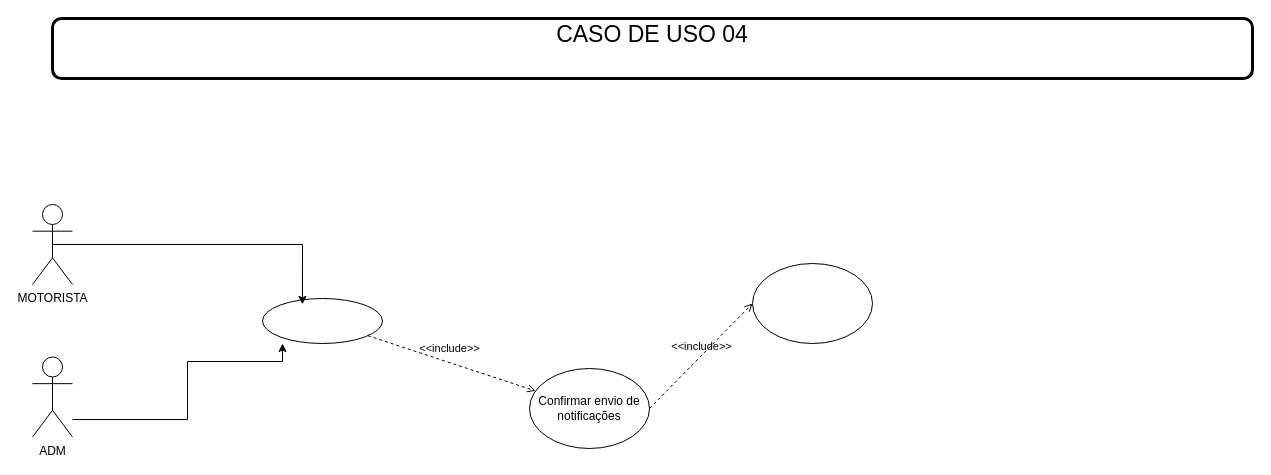
The diagram is 1271 pixels wide and 475 high, and some of its shapes have lost their labels. Each missing label, with the centre of its shape:
ALTERAÇÃO HORÁRIO/CARGA: pixel 322 321
Notificação a motoristas afetados: pixel 812 303
